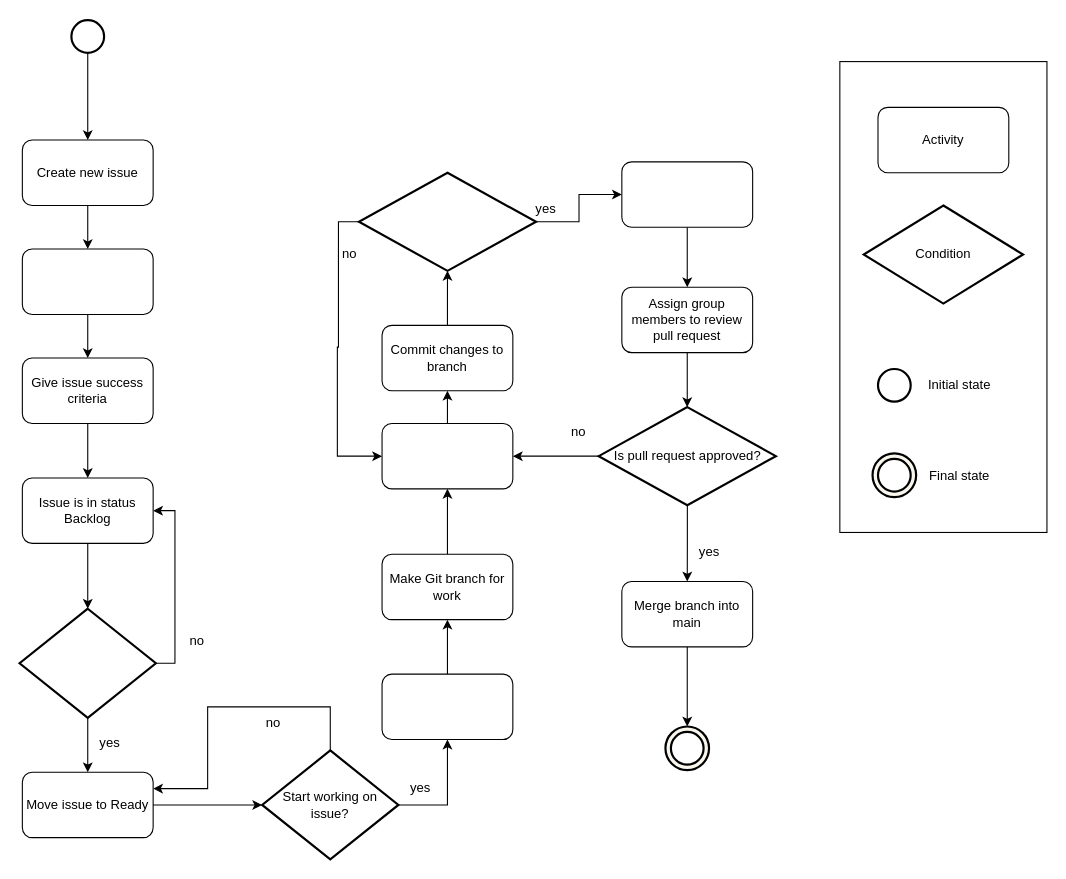
The diagram is 1066 pixels wide and 879 high, and some of its shapes have lost their labels. The shapes that lost their labels are listed below. From the top down, each one's centre as x and y in pixels, then its label:
At (x=687, y=194): "Create pull request".
At (x=447, y=221): "Is the issue's success criteria fulfilled?".
At (x=87, y=281): "Give issue a user story".
At (x=447, y=455): "Work on issue".
At (x=87, y=662): "Is issue ready to be worked on?".
At (x=447, y=706): "Move issue to In Progress".
